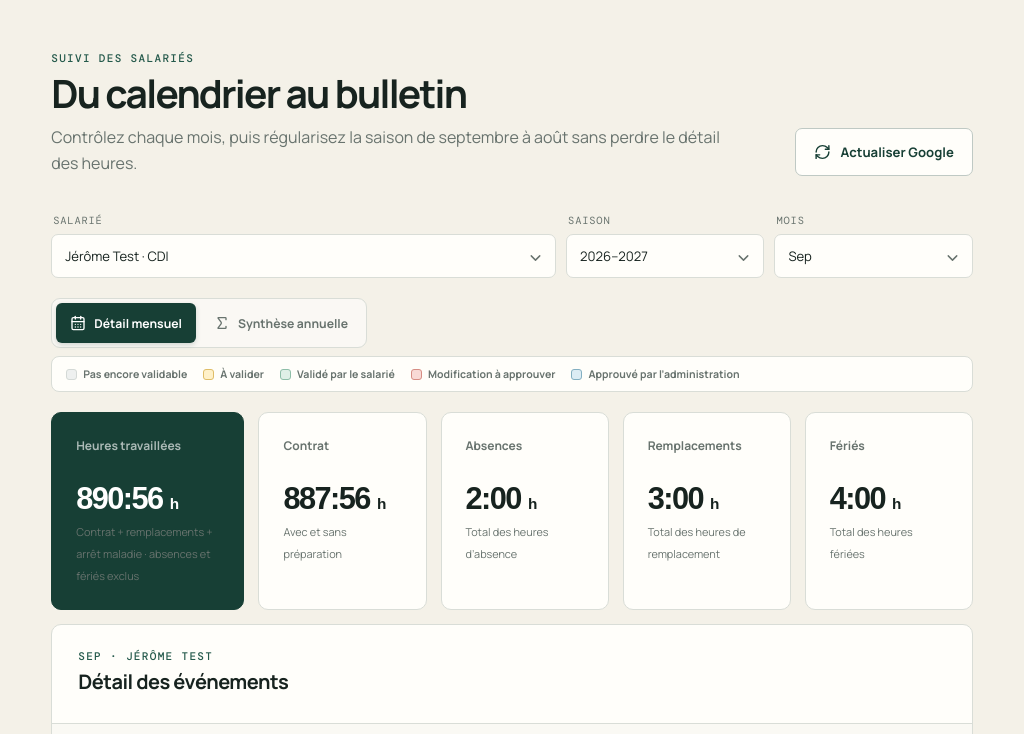
Test case: TimeTrackingPage › lets an administrator approve the selected employee-validated month
Select "2025–2026" in the dropdown labelled "Saison" at (665, 256), box [566,234,764,278]
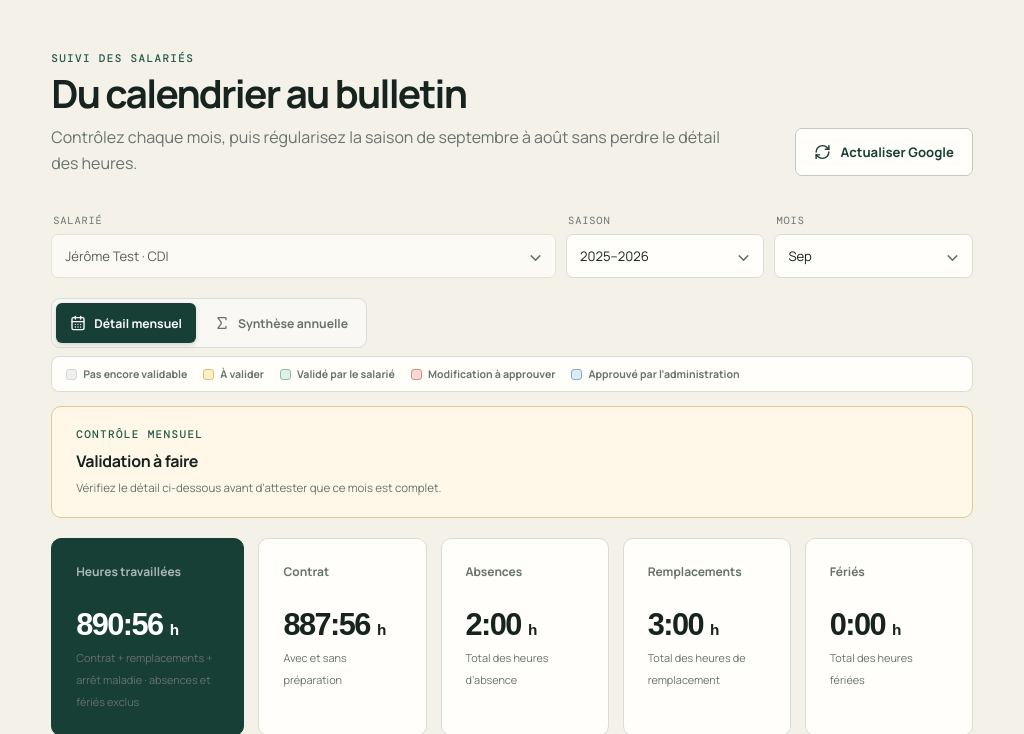
Select "Aoû" in the dropdown labelled "Mois" at (874, 256), box [774,234,973,278]
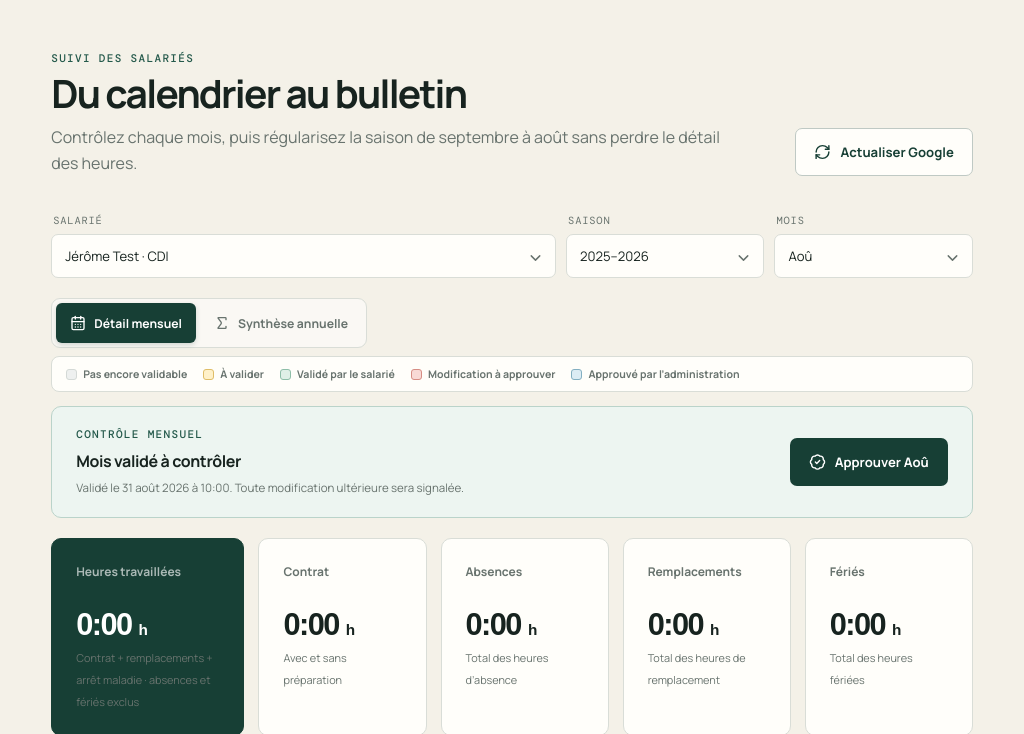
Click the button "Approuver Aoû" at (869, 462), box [790,438,948,486]
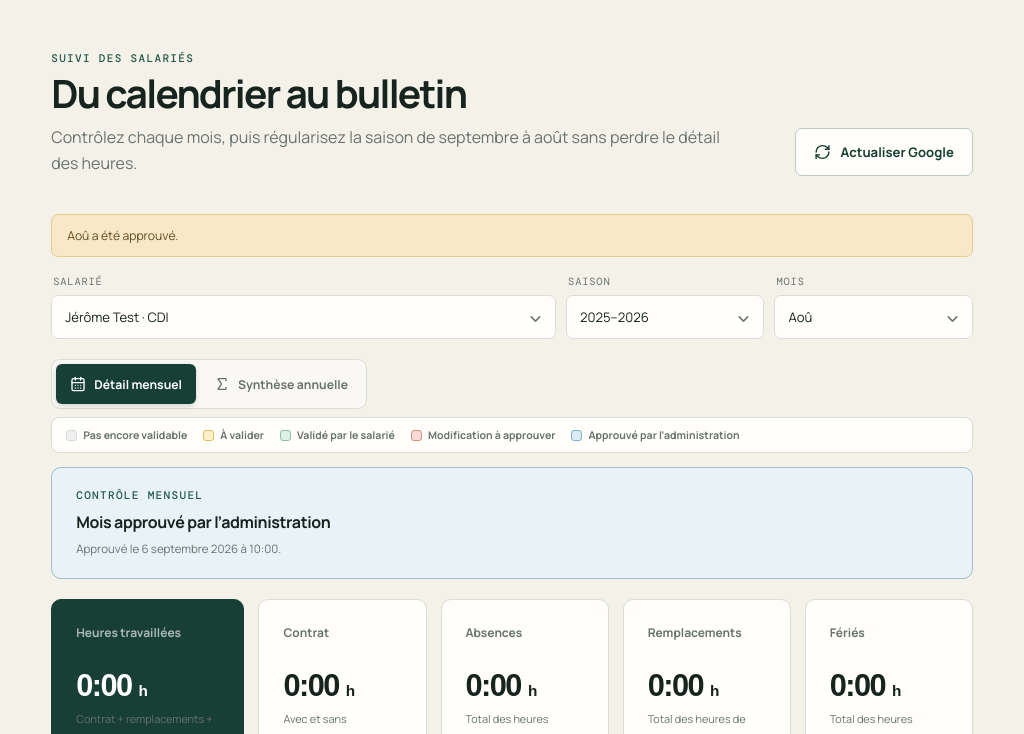
Now the text "Aoû a été approuvé." is shown, box [51,214,973,257]
